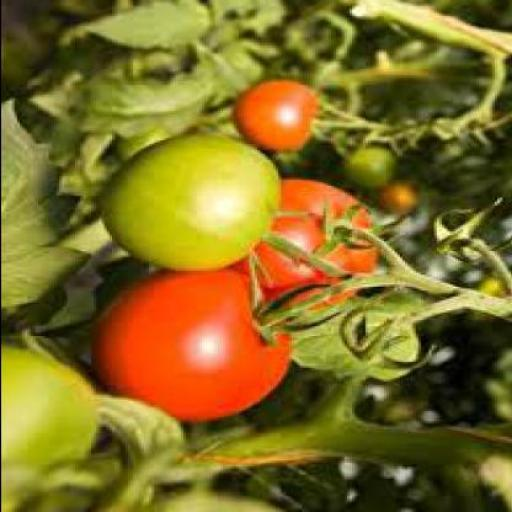biodegradable: (92, 272, 346, 422), (103, 136, 293, 274), (1, 346, 113, 511), (254, 178, 382, 316), (235, 83, 325, 152), (344, 146, 402, 190), (378, 178, 422, 217), (482, 276, 511, 318)
